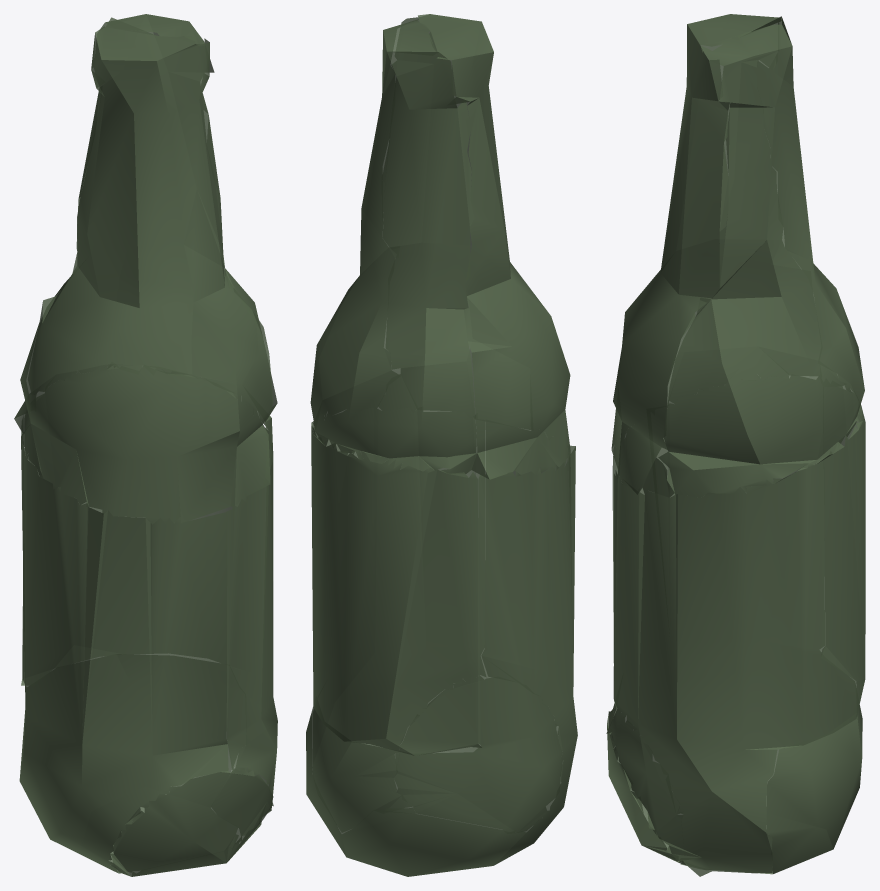
File: glass.glb
The picture shows the model from 3 angles, left to right: view 1: azimuth 30°, elevation 25°; view 2: azimuth 150°, elevation 25°; view 3: azimuth 270°, elevation 25°; orthographic projection.
Visible parts, largest first — view 1: tripo_node_56e11af5-4925-4d1f-b8ec-85cdae79ed07.003; view 2: tripo_node_56e11af5-4925-4d1f-b8ec-85cdae79ed07.003; view 3: tripo_node_56e11af5-4925-4d1f-b8ec-85cdae79ed07.003.
Boxes of the visible parts, x1,y1,x2,y2 form: tripo_node_56e11af5-4925-4d1f-b8ec-85cdae79ed07.003: (14,14,277,876); tripo_node_56e11af5-4925-4d1f-b8ec-85cdae79ed07.003: (306,14,577,876); tripo_node_56e11af5-4925-4d1f-b8ec-85cdae79ed07.003: (606,14,865,876).
Size of what is drawn, in the model's own units: 0.2117 by 0.7135 by 0.2054.
